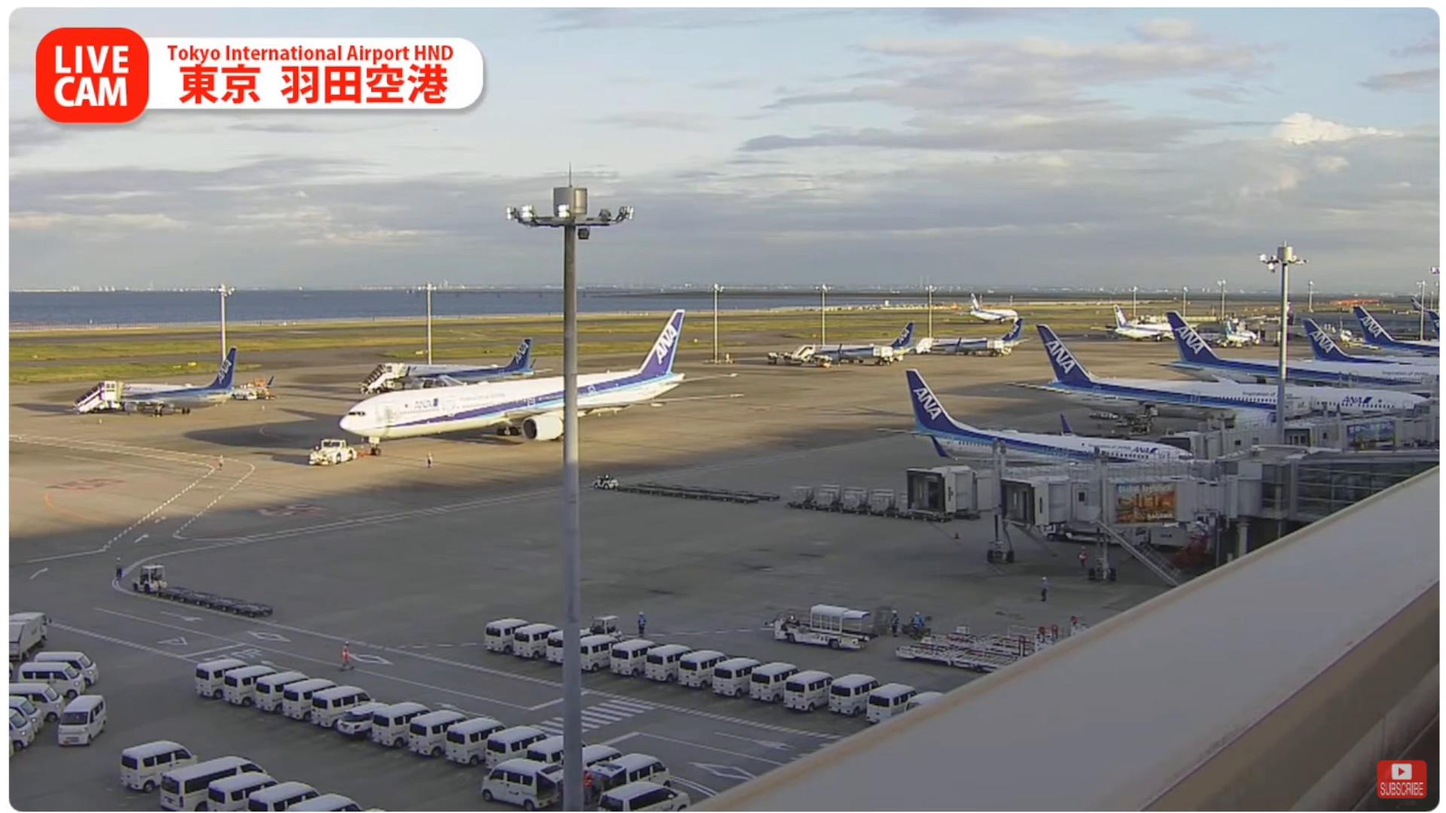APS: (308, 437, 357, 475)
Airplane: (338, 306, 692, 445)
Dolly: (152, 580, 283, 617)
JCPL: (893, 630, 1039, 676)
Skyloader: (774, 600, 879, 655)
Tractor: (134, 564, 168, 598)
